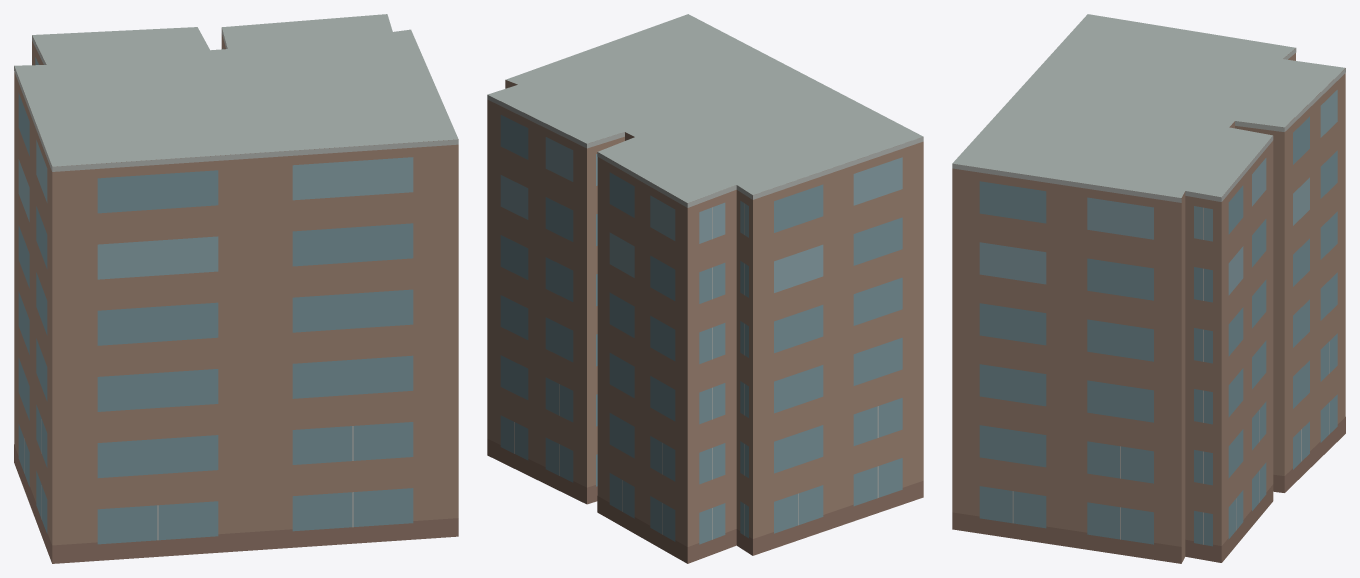
File: survey-upis-32941262.glb
3 views of the same model, side by side, from view 1: azimuth 30°, elevation 25°; view 2: azimuth 150°, elevation 25°; view 3: azimuth 270°, elevation 25° (orthographic). The views are drawn at different scales.
Parts seen in each view (by area): view 1: survey-upis-32941262.tmp; view 2: survey-upis-32941262.tmp; view 3: survey-upis-32941262.tmp.
Part boxes in pixels (x1,y1,x2,y2): survey-upis-32941262.tmp: (14, 14, 458, 563); survey-upis-32941262.tmp: (487, 14, 923, 563); survey-upis-32941262.tmp: (952, 14, 1345, 563).
Size of the model in its own units: 19.87 by 18.4 by 17.95.
